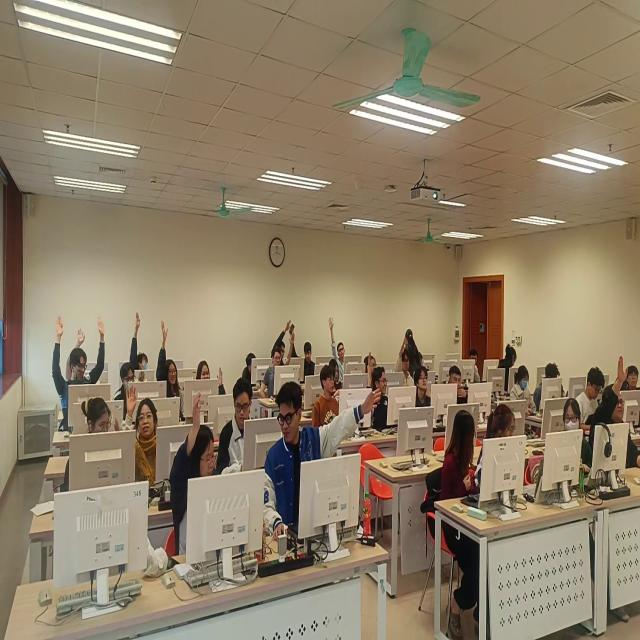raise_hand: (264, 380, 386, 547), (173, 390, 218, 568), (591, 354, 640, 502), (53, 315, 109, 432), (124, 381, 169, 494), (155, 320, 187, 423), (266, 329, 303, 403), (195, 353, 228, 419), (128, 310, 155, 387), (325, 313, 355, 382), (367, 359, 391, 436), (397, 334, 417, 402), (272, 318, 293, 364)
raise_head: (317, 361, 345, 446), (413, 364, 434, 416), (625, 362, 640, 400), (366, 355, 380, 378)
using_computer: (481, 411, 550, 512), (220, 381, 270, 489), (510, 364, 550, 428), (445, 367, 487, 421), (110, 358, 143, 418), (535, 364, 567, 411), (238, 352, 267, 398), (467, 347, 490, 389)
